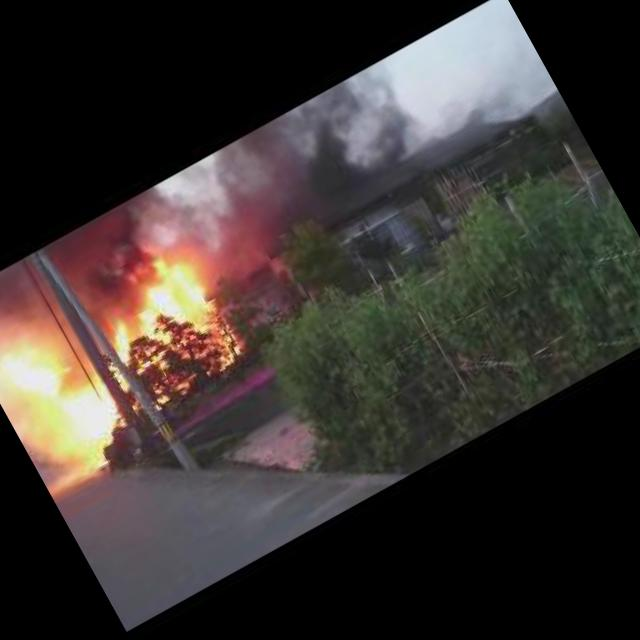fire: (0, 311, 140, 493), (204, 324, 248, 371), (148, 380, 178, 410), (108, 360, 134, 394), (172, 371, 203, 396), (128, 394, 145, 414)
smoke: (155, 0, 564, 294), (90, 242, 238, 384), (55, 187, 187, 305)
